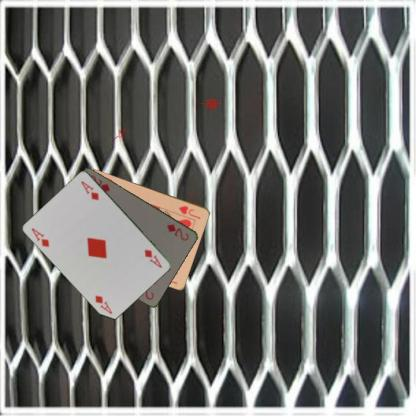2d: (164, 221, 190, 242)
Ad: (142, 247, 164, 269), (29, 226, 51, 248)
Jh: (176, 203, 202, 221)
